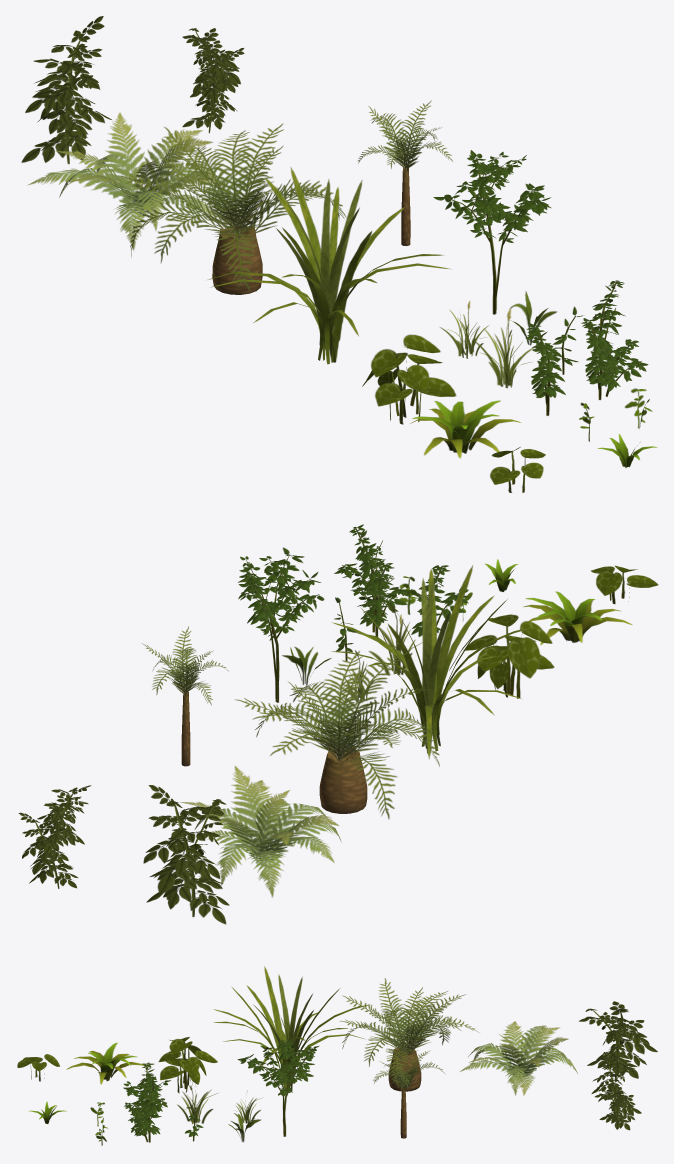
Rendered from estufa_plantas.glb.
The picture shows the model from 3 angles, top to bottom: view 1: azimuth 30°, elevation 25°; view 2: azimuth 150°, elevation 25°; view 3: azimuth 270°, elevation 25°; orthographic projection. The views are drawn at different scales.
Parts seen in each view (by area): view 1: Plant_Palm1, Plant_Misc1, Plant_Fern, Plant_Bush3, Plant_BushTall, Plant_Monstera1, Plant_Bush4, Plant_Bush1, Plant_Palm2, Plant_Misc4, Plant_Bush2, Plant_Grass1 (+2 smaller); view 2: Plant_Palm1, Plant_Fern, Plant_Misc1, Plant_Bush3, Plant_BushTall, Plant_Monstera1, Plant_Bush4, Plant_Bush1, Plant_Palm2, Plant_Misc4, Plant_Monstera2, Plant_Bush2 (+1 smaller); view 3: Plant_Palm1, Plant_Fern, Plant_Misc1, Plant_Bush3, Plant_BushTall, Plant_Bush4, Plant_Monstera1, Plant_Bush1, Plant_Palm2, Plant_Misc4, Plant_Bush2, Plant_Grass1 (+2 smaller).
Part boxes in pixels (bbox=[...]): Plant_Palm1: bbox=[118, 123, 346, 294]; Plant_Misc1: bbox=[207, 167, 451, 364]; Plant_Fern: bbox=[27, 112, 222, 250]; Plant_Bush3: bbox=[21, 16, 111, 164]; Plant_BushTall: bbox=[433, 150, 551, 314]; Plant_Monstera1: bbox=[362, 334, 456, 424]; Plant_Bush4: bbox=[182, 28, 244, 133]; Plant_Bush1: bbox=[581, 280, 648, 399]; Plant_Palm2: bbox=[358, 100, 452, 245]; Plant_Misc4: bbox=[410, 400, 520, 458]; Plant_Bush2: bbox=[525, 323, 565, 415]; Plant_Grass1: bbox=[472, 308, 533, 388]; Plant_Palm1: bbox=[234, 650, 439, 819]; Plant_Fern: bbox=[180, 766, 341, 897]; Plant_Misc1: bbox=[331, 565, 534, 759]; Plant_Bush3: bbox=[143, 785, 229, 924]; Plant_BushTall: bbox=[238, 547, 324, 702]; Plant_Monstera1: bbox=[463, 614, 554, 698]; Plant_Bush4: bbox=[18, 785, 91, 888]; Plant_Bush1: bbox=[334, 524, 410, 636]; Plant_Palm2: bbox=[142, 626, 228, 766]; Plant_Misc4: bbox=[523, 591, 632, 644]; Plant_Monstera2: bbox=[591, 565, 658, 603]; Plant_Bush2: bbox=[407, 565, 468, 636]; Plant_Palm1: bbox=[340, 978, 478, 1091]; Plant_Fern: bbox=[459, 1021, 577, 1095]; Plant_Misc1: bbox=[213, 966, 370, 1092]; Plant_Bush3: bbox=[579, 1001, 657, 1081]; Plant_BushTall: bbox=[237, 1039, 319, 1136]; Plant_Bush4: bbox=[591, 1052, 641, 1130]; Plant_Monstera1: bbox=[158, 1037, 217, 1093]; Plant_Bush1: bbox=[124, 1074, 167, 1142]; Plant_Palm2: bbox=[373, 1051, 444, 1138]; Plant_Misc4: bbox=[66, 1042, 146, 1084]; Plant_Bush2: bbox=[123, 1062, 170, 1123]; Plant_Grass1: bbox=[177, 1078, 217, 1124].
Size of the model in its own units: 4.41 by 2.28 by 12.02.
1 material, 1 textured.
